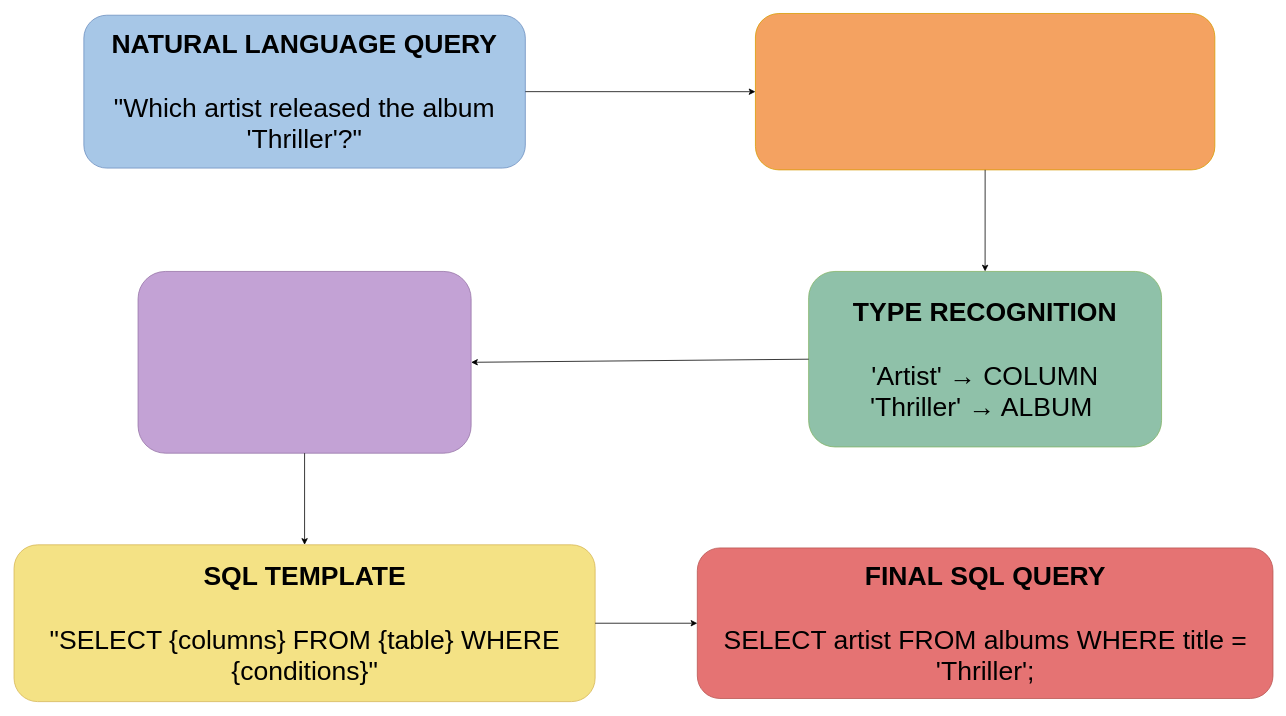
Some shapes in this 1286 by 716 pixel diagram are drawn without their labels. Here are the shapes that lost their labels. From the top down, the box of each, then its label:
(755, 13, 1215, 170): INTENT DETECTION Identified Intent: "Retrieve artist information"
(137, 271, 471, 453): SLOT FILLING SELECT : artist FROM : albums WHERE : title = 'Thriller'
